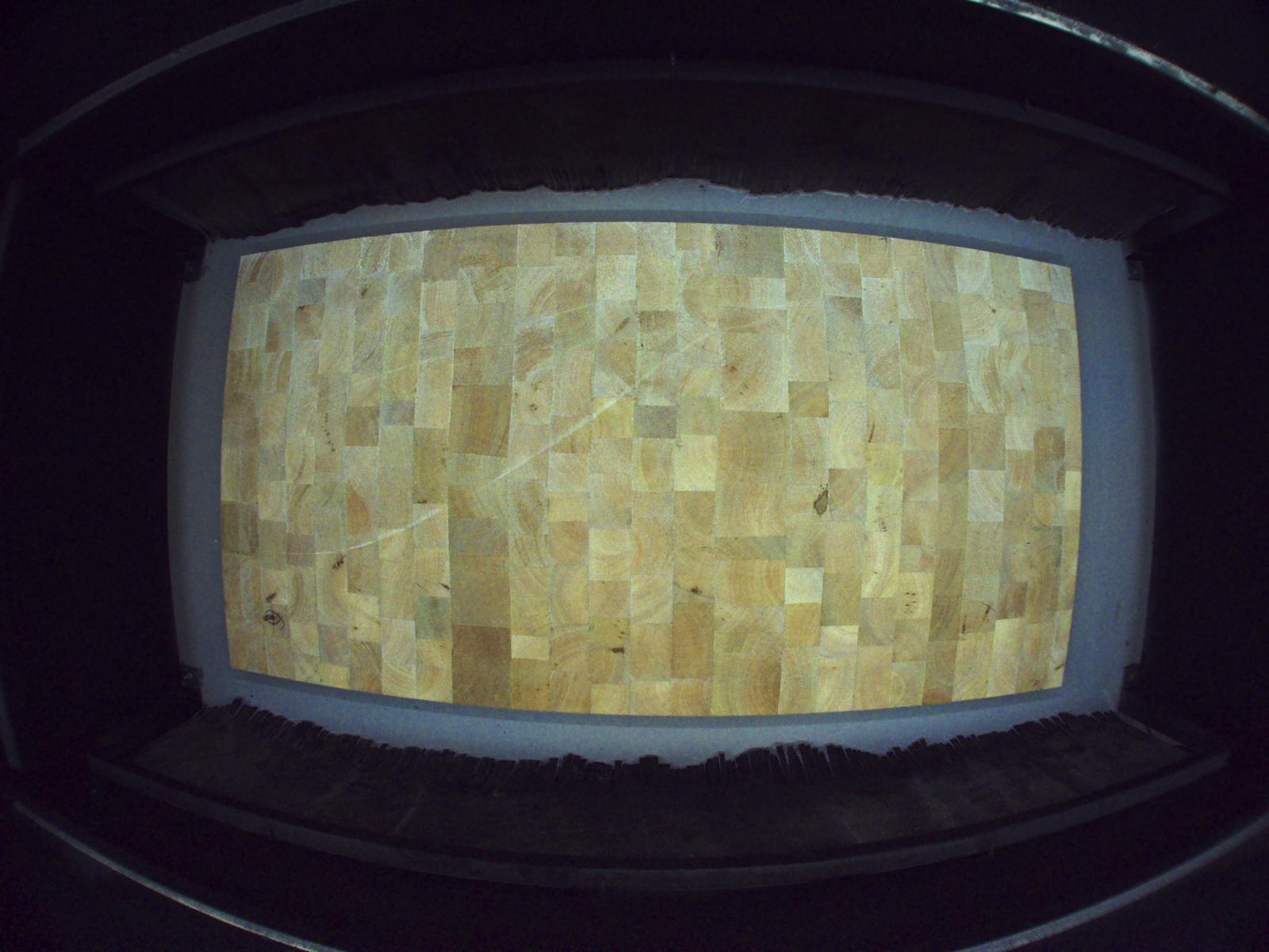sheck_ecuatoriano: (261, 603, 278, 637)
